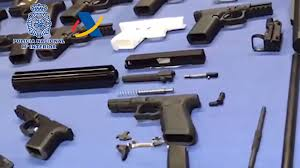gun: (107, 93, 202, 145), (185, 1, 276, 47), (13, 103, 78, 159), (111, 19, 184, 51), (208, 89, 225, 109)
